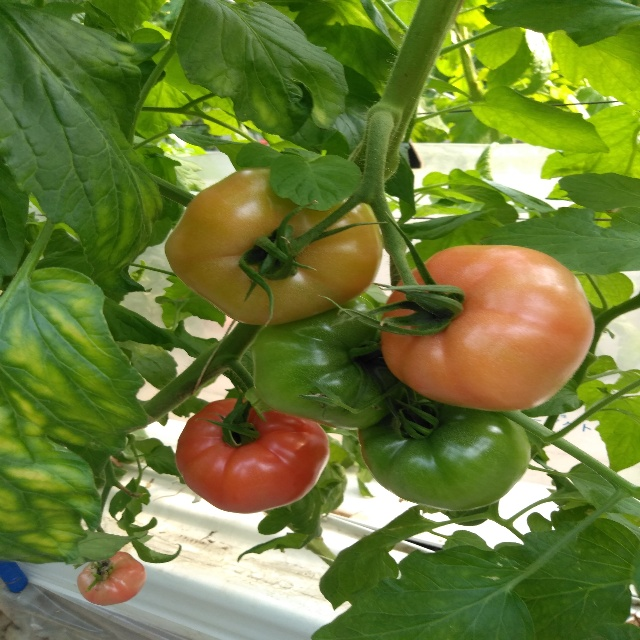b_fully_ripened: (175, 399, 329, 514)
b_green: (251, 294, 410, 429), (359, 397, 532, 511)
b_half_ripened: (380, 244, 595, 411), (162, 168, 384, 327), (77, 551, 146, 605)
